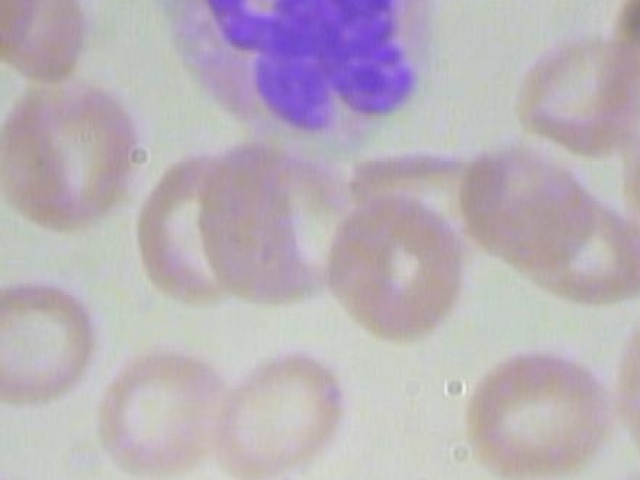RBC: (0, 72, 144, 250), (319, 198, 471, 350), (466, 335, 623, 480), (212, 338, 355, 480), (459, 141, 609, 271), (102, 342, 230, 480), (0, 273, 95, 412), (591, 307, 640, 479), (0, 0, 54, 72), (611, 0, 640, 90), (0, 468, 45, 480)
WBC: (142, 0, 447, 153)
